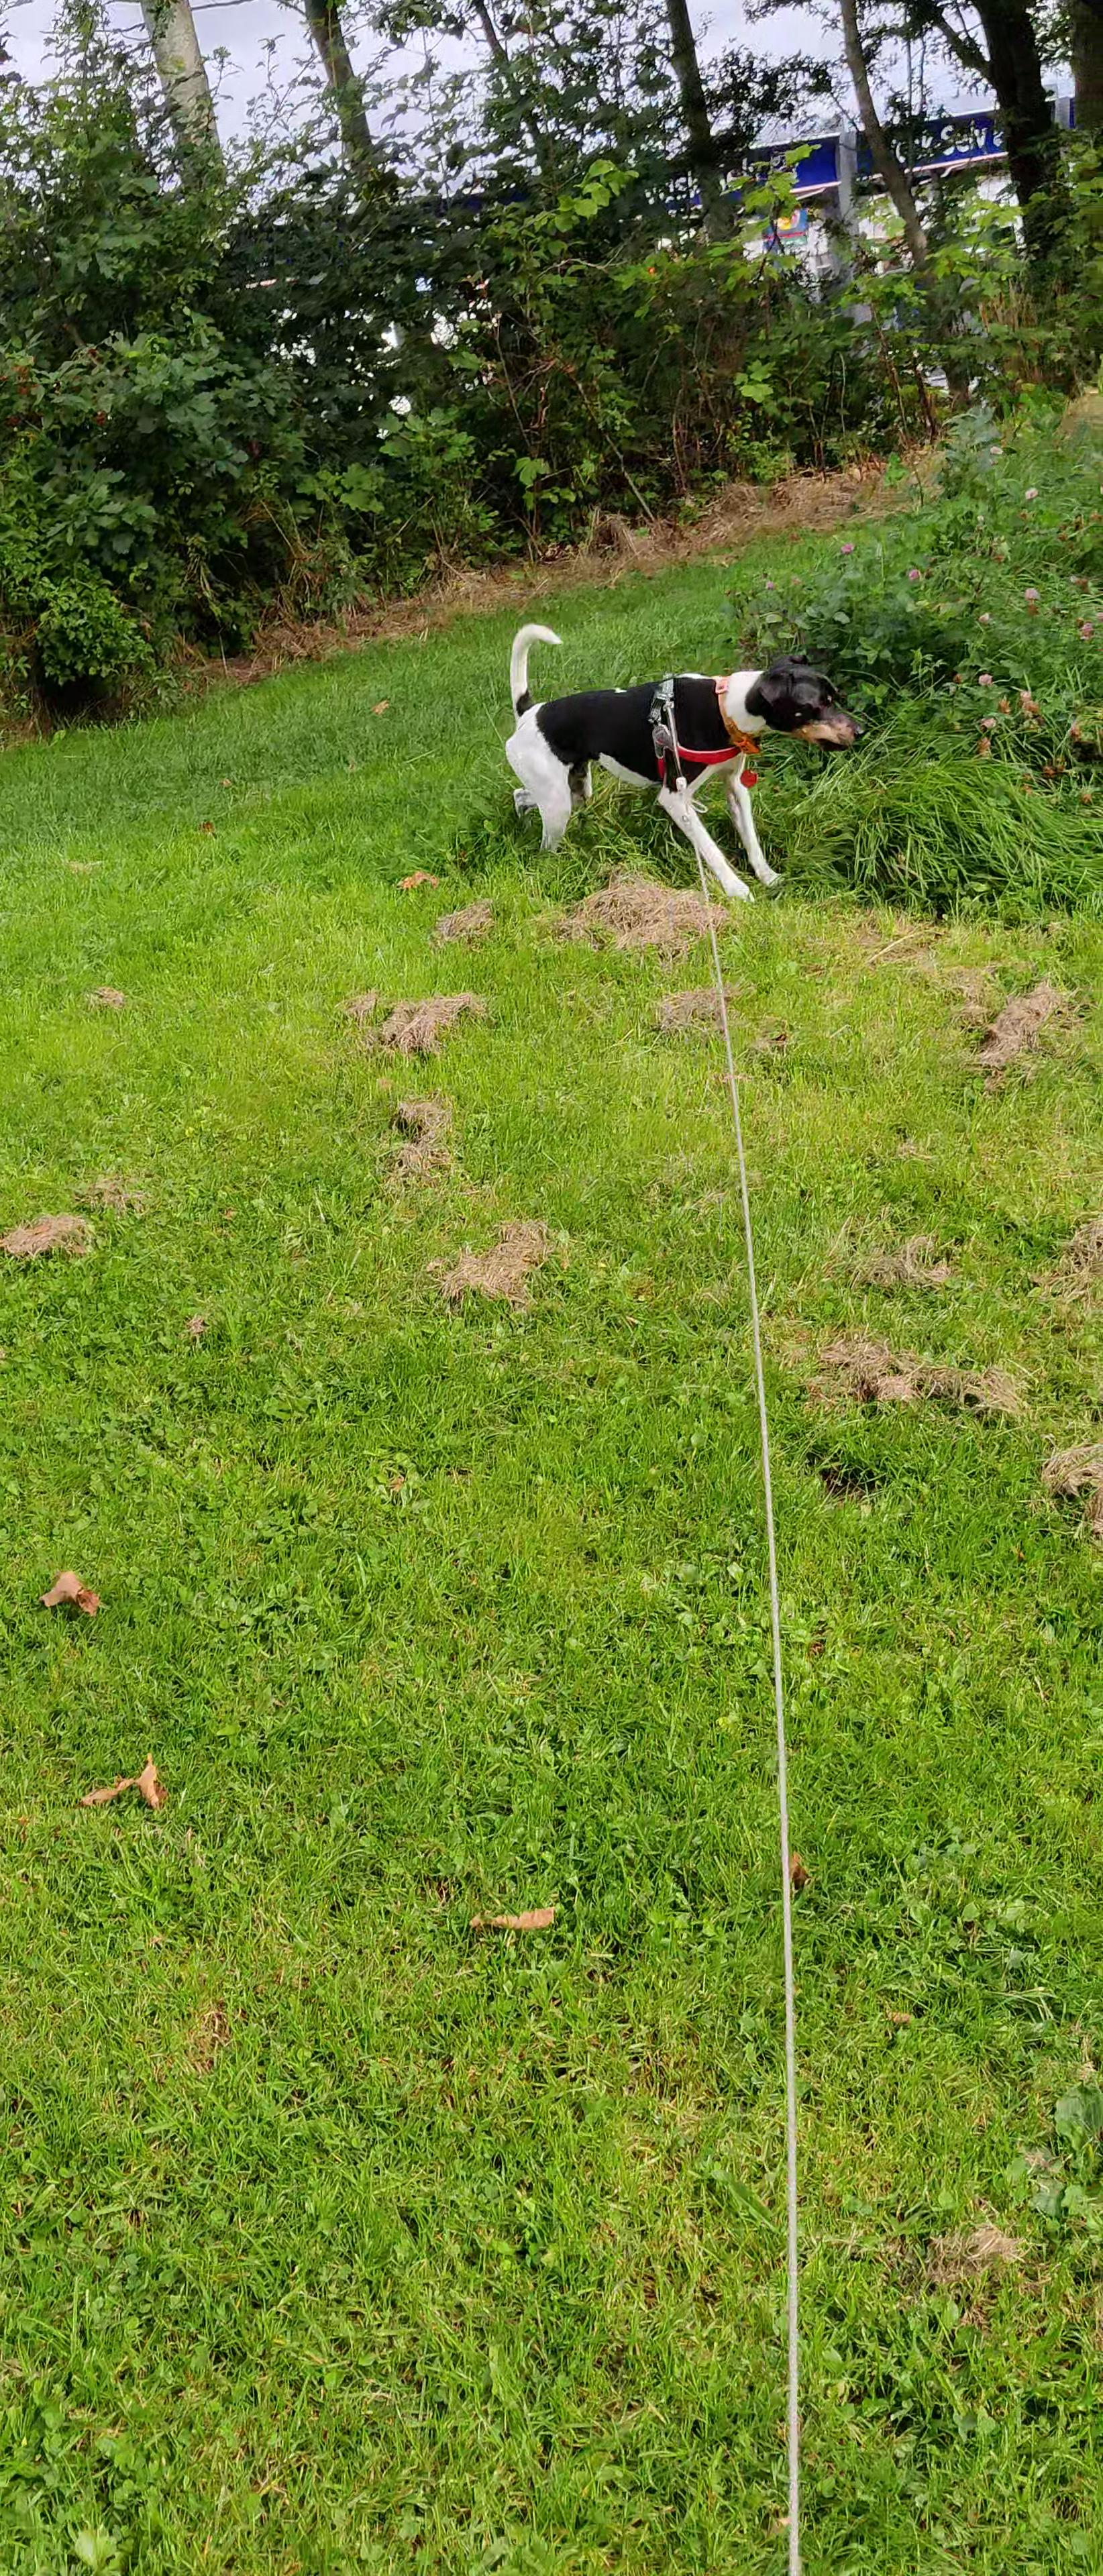Dog: (492, 605, 870, 908)
